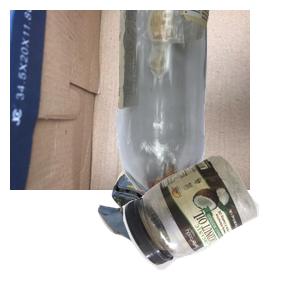cardboard: (10, 10, 250, 190)
glass: (113, 10, 300, 190)
plastic: (120, 152, 300, 300)
trash: (95, 157, 282, 300)
